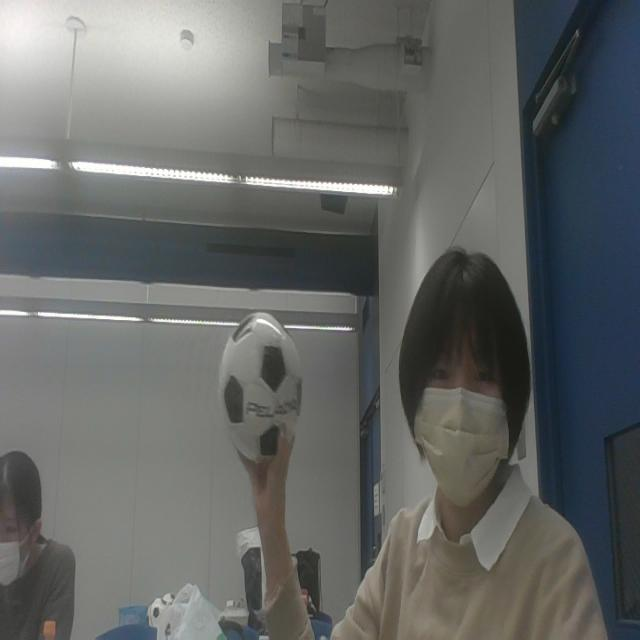ball: (220, 311, 302, 467)
